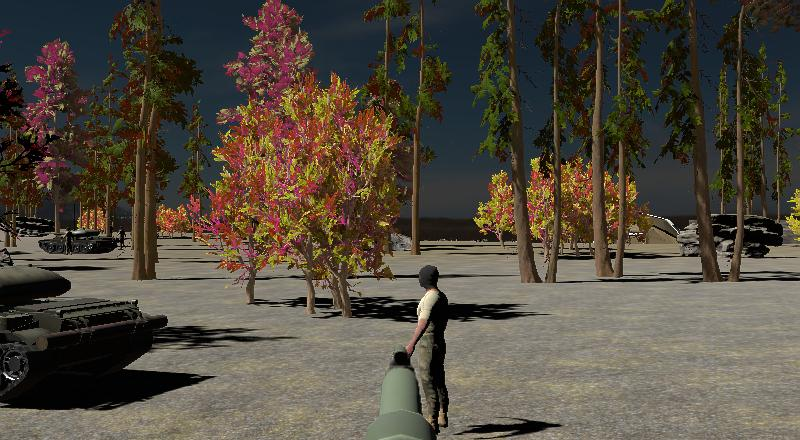Human: (402, 255, 456, 437)
Tank: (1, 254, 170, 403), (29, 223, 119, 257)
